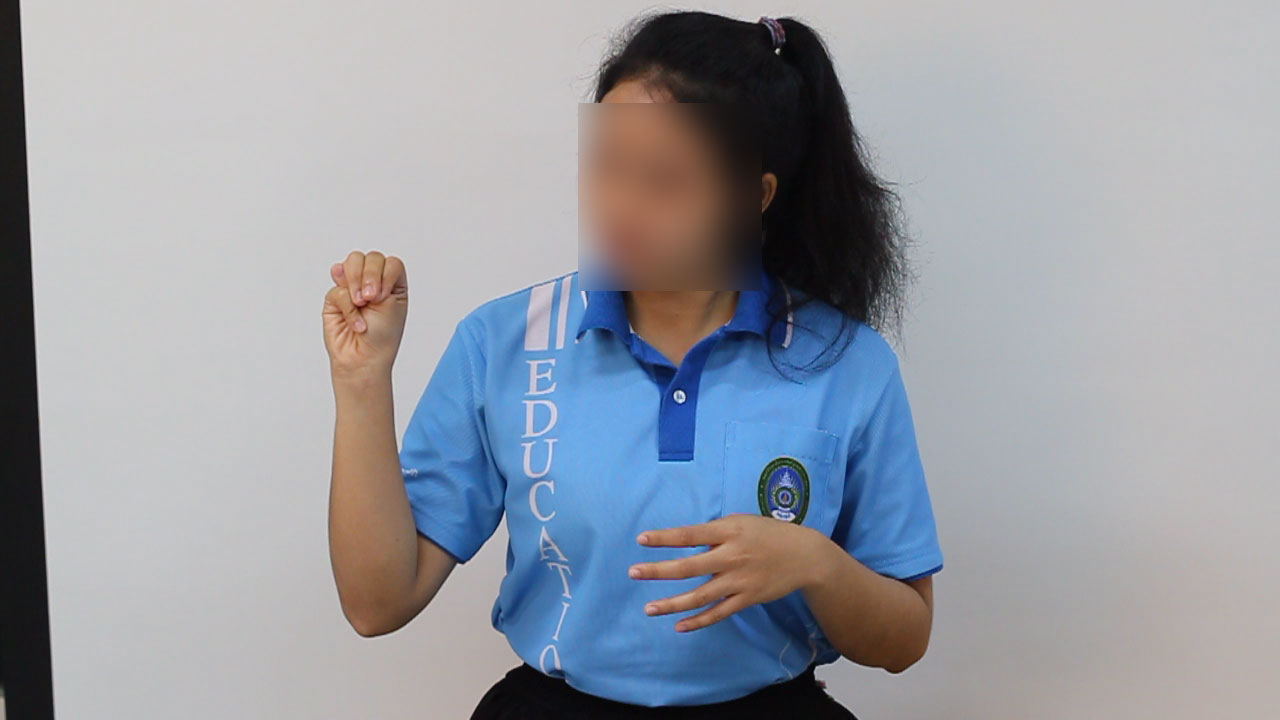mor: (312, 230, 415, 393)
